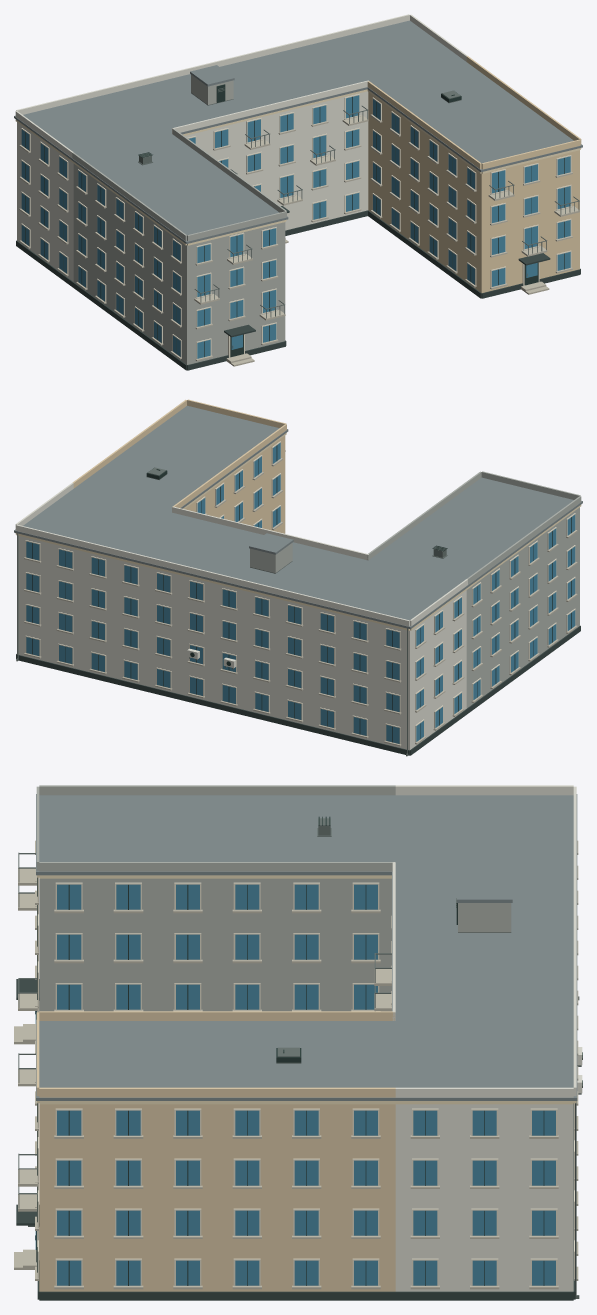
Rendered from UCourtyard4.obj.
The picture shows the model from 3 angles, top to bottom: view 1: azimuth 30°, elevation 25°; view 2: azimuth 150°, elevation 25°; view 3: azimuth 270°, elevation 25°; orthographic projection. The views are drawn at different scales.
Visible parts, largest first — view 1: UCourtyard4; view 2: UCourtyard4; view 3: UCourtyard4.
Boxes of the visible parts, box(x1,y1,x2,y2) form: UCourtyard4: box(14, 14, 582, 370); UCourtyard4: box(14, 399, 582, 756); UCourtyard4: box(14, 785, 582, 1300).
Bounding box in the file's own units: 40.5 × 14.69 × 31.95.
1 material, 1 textured.
